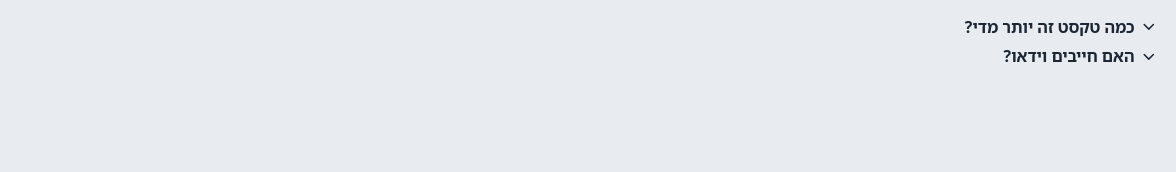
Test case: AccordionRenderer › סוגר פריט בלחיצה חוזרת
Click the button "כמה טקסט זה יותר מדי?". click: click(1050, 27)
box: x1=12 y1=12 x2=1164 y2=42
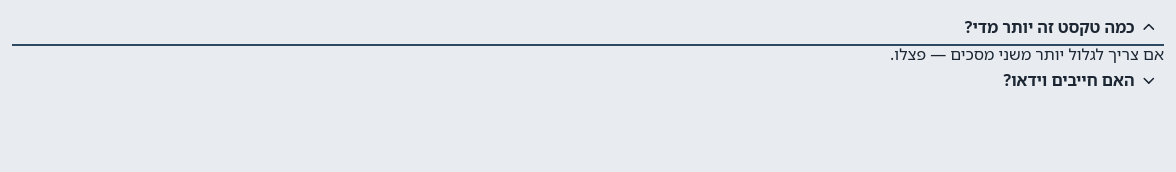
Click the button "כמה טקסט זה יותר מדי?". click: click(1050, 27)
box: x1=12 y1=12 x2=1164 y2=42
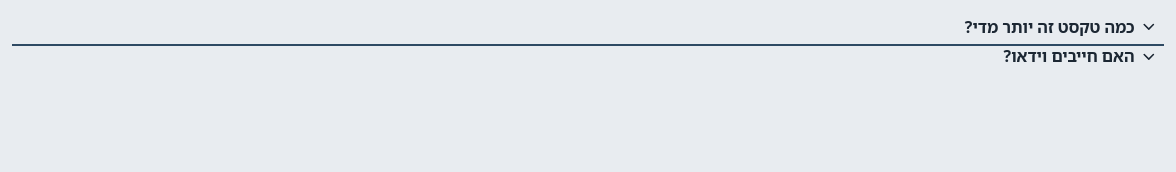
Check: the button "כמה טקסט זה יותר מדי?" is collapsed, box x1=12 y1=12 x2=1164 y2=42
